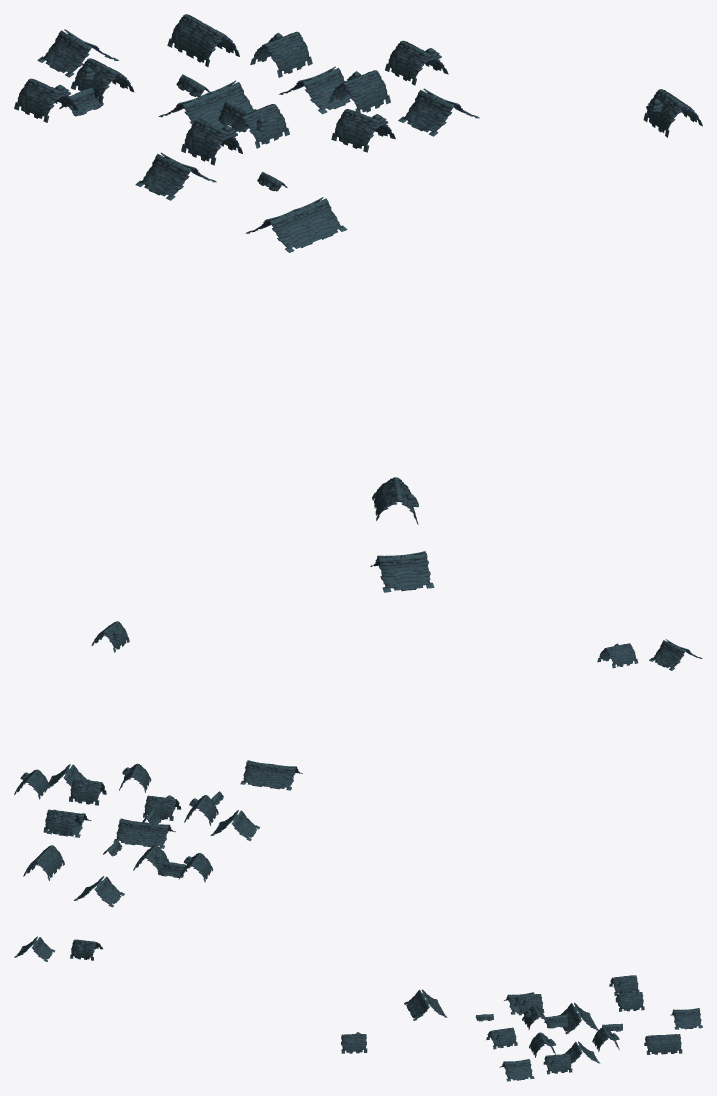
Rendered from BlueRoofsBlock.FBX.
3 renders of one model, top to bottom at view 1: azimuth 30°, elevation 25°; view 2: azimuth 150°, elevation 25°; view 3: azimuth 270°, elevation 25°, orthographic. The views are drawn at different scales.
Visible parts, largest first — view 1: Blue_Roof_Low_Preparation047; view 2: Blue_Roof_Low_Preparation047; view 3: Blue_Roof_Low_Preparation047.
Part boxes in pixels (<box>): Blue_Roof_Low_Preparation047: <box>14,14,702,592</box>; Blue_Roof_Low_Preparation047: <box>14,621,702,907</box>; Blue_Roof_Low_Preparation047: <box>14,936,702,1081</box>.
Size of the model in its own units: 340 by 68.35 by 609.
